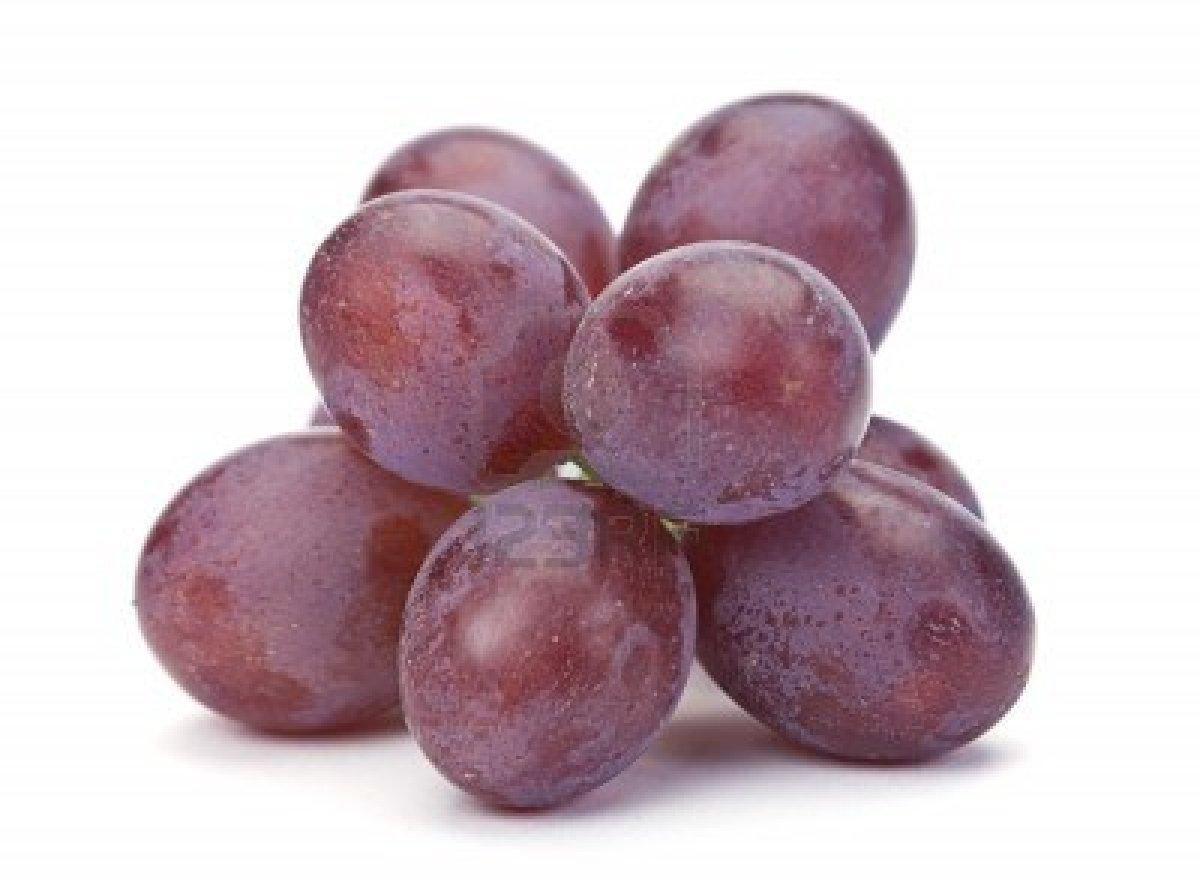grape: (86, 67, 1105, 834)
